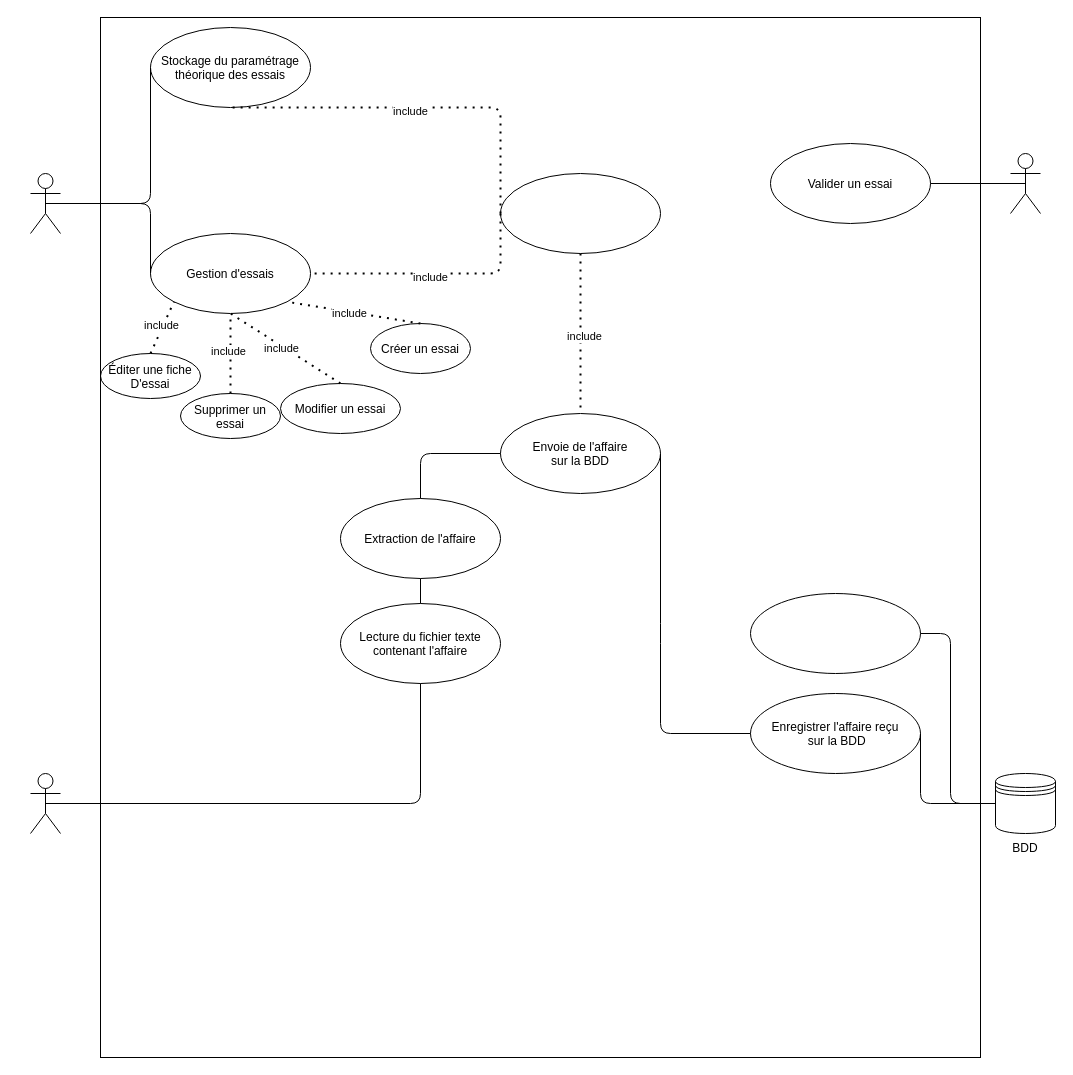
Some shapes in this 1073 by 1075 pixel diagram are drawn without their labels. Each missing label, with the centre of its shape:
"Authentification du contrôleur" belongs at point (580, 213).
"Contrôleur" belongs at point (45, 203).
"GPAO" belongs at point (45, 803).
"Modifier une affaire de la BDD" belongs at point (835, 633).
"Poste Banc" belongs at point (1025, 183).
